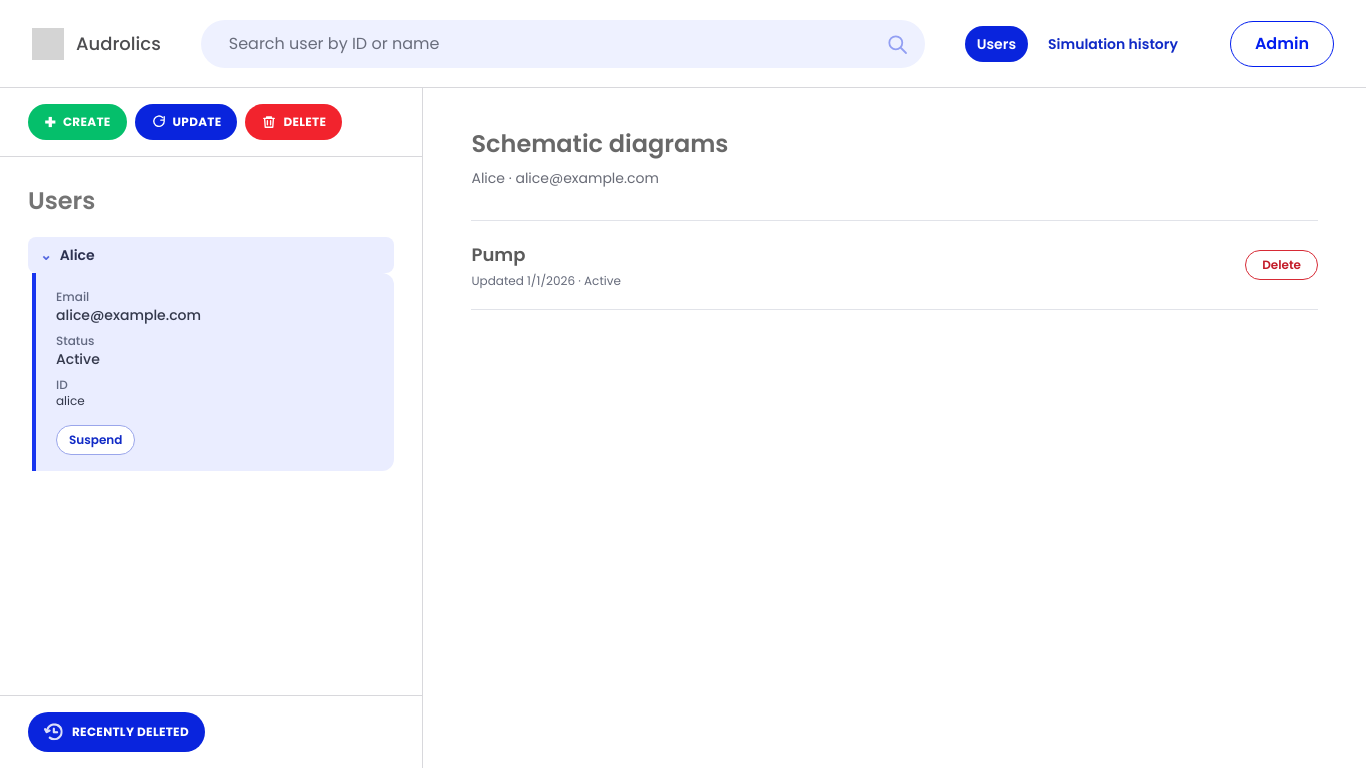
Scenario: updates the selected user's name and email
Expected: the heading "Pump" is shown, [472,242,525,267]
Click the button "Update" at (186, 122), box [135,104,238,140]
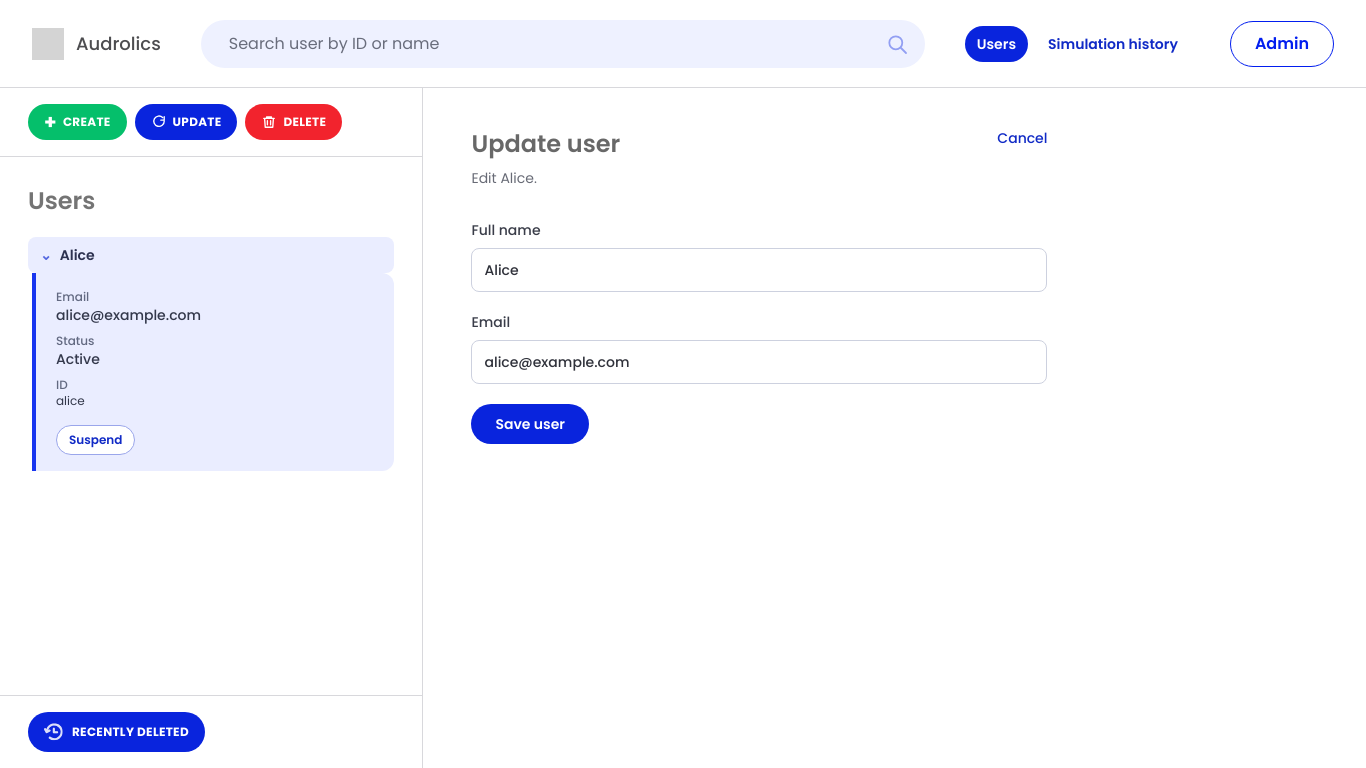
Replace the text in the field labelled "Full name" with "Alice Smith" at (760, 270), box [472,248,1048,292]
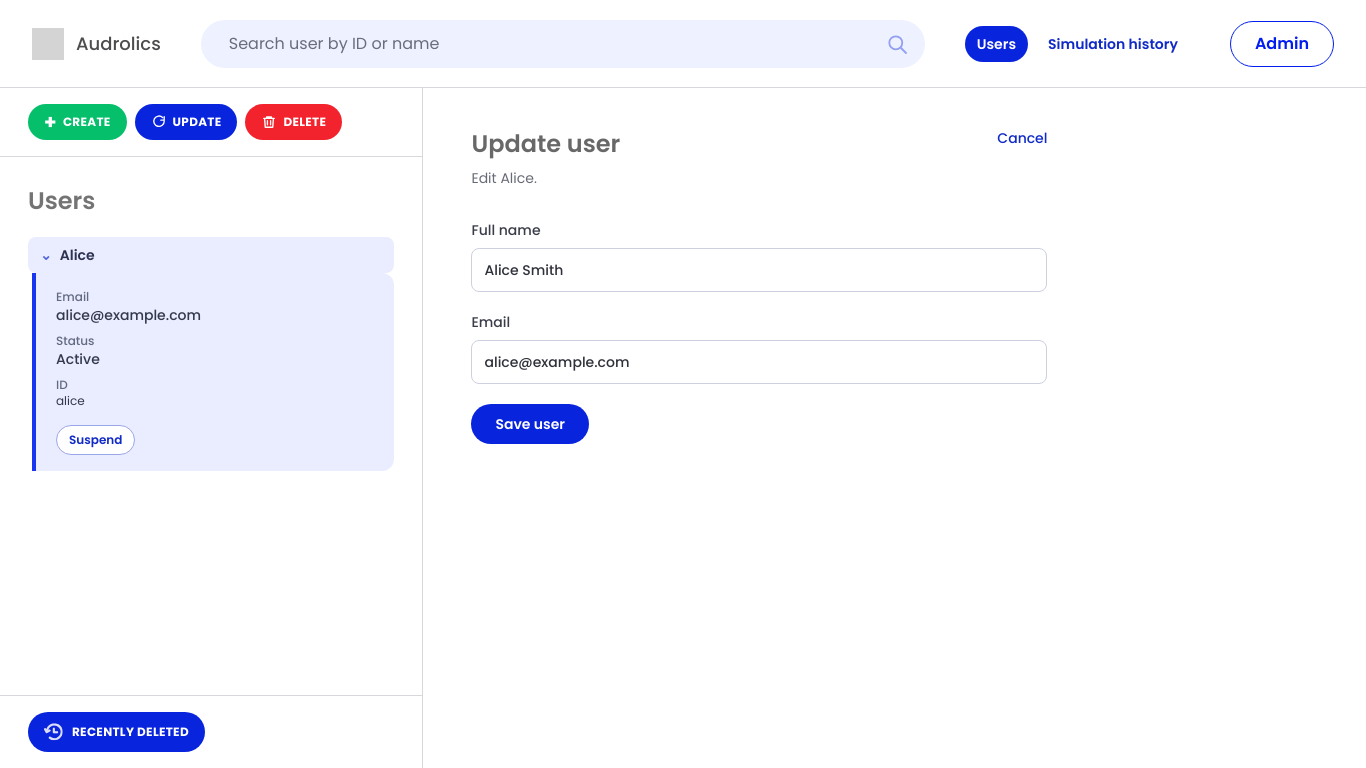
Replace the text in the field labelled "Email" with "alice.smith@example.com" at (760, 362), box [472,340,1048,384]
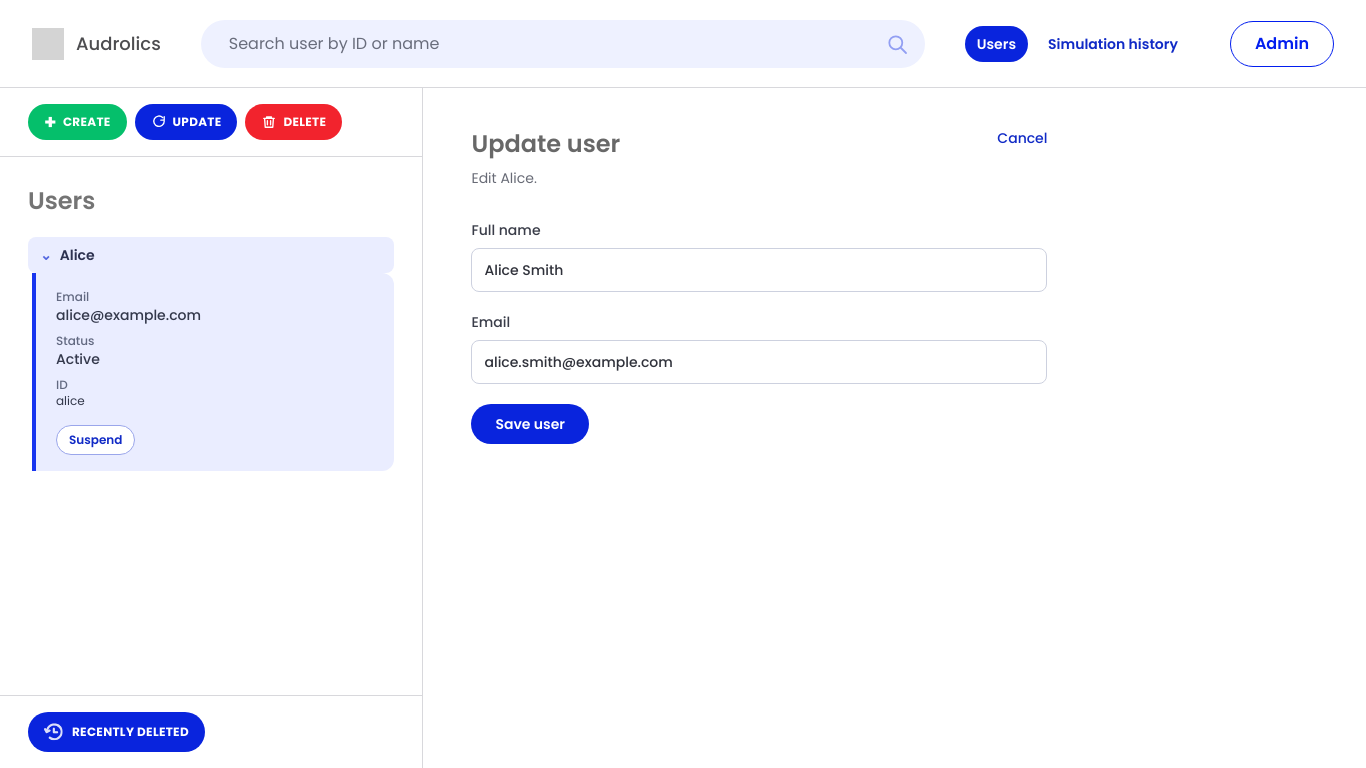
Click the button "Save user" at (530, 424), box [472,404,589,444]
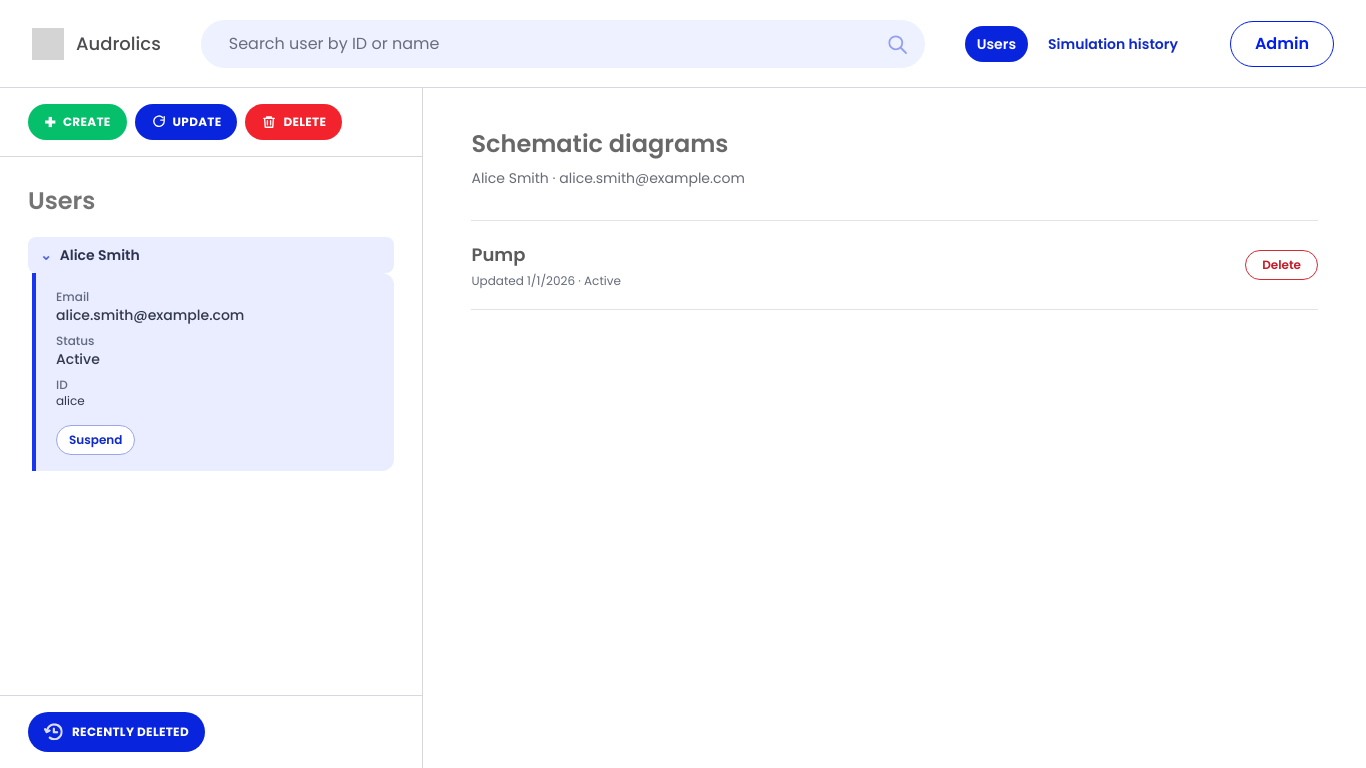
Expected: the button "⌄Alice Smith" is shown, [28,237,394,273]
